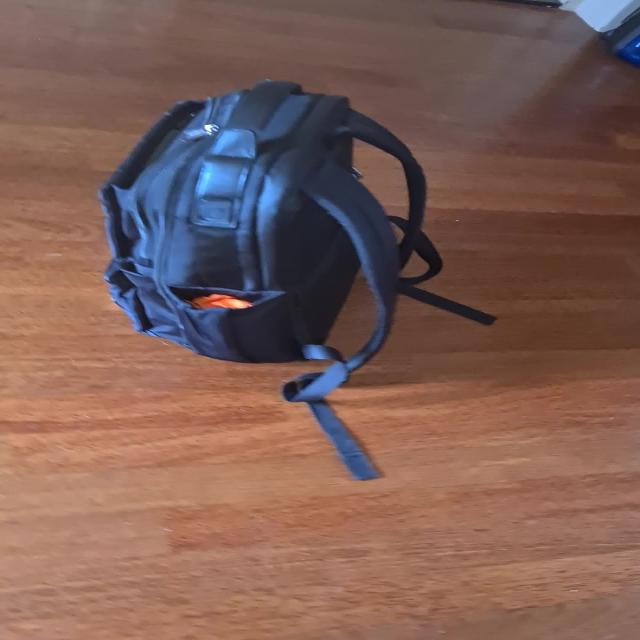backpack: (87, 66, 418, 369)
